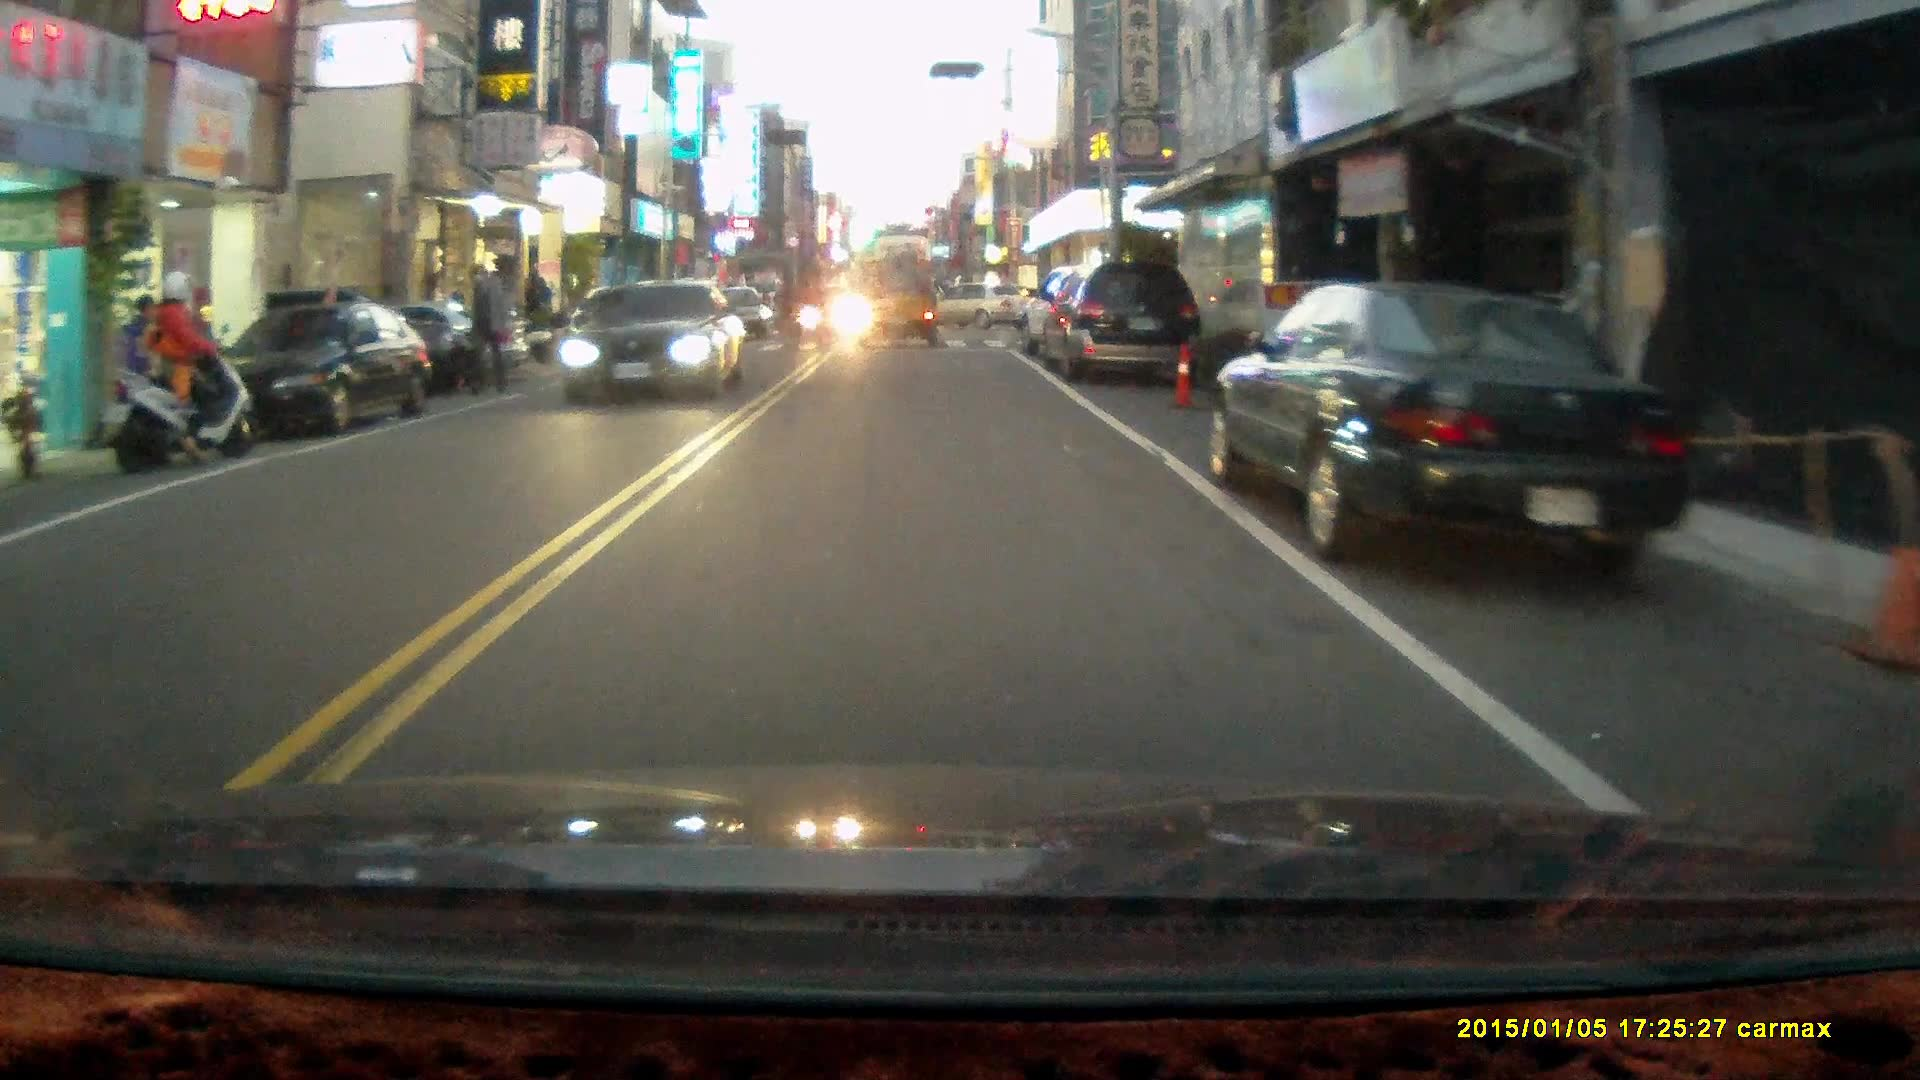pedestrian: (462, 261, 509, 398)
rider: (109, 266, 253, 469)
vehicle: (1204, 279, 1710, 581), (203, 301, 428, 439), (268, 294, 535, 387), (560, 279, 750, 402), (1034, 261, 1205, 383), (861, 262, 943, 353), (910, 279, 1040, 335)
